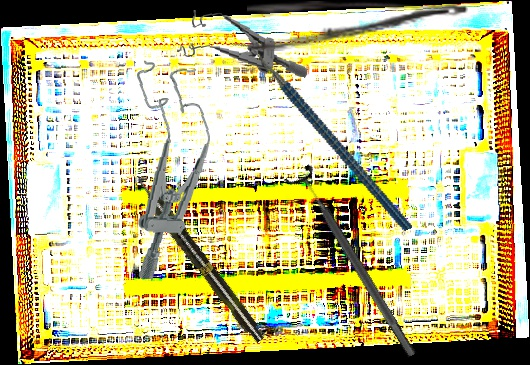Chopper: (228, 6, 413, 266)
Dressing Forceps: (247, 1, 468, 51)
Fixation Ring: (283, 162, 426, 365)
Handpiece: (130, 171, 268, 346)
Speculum: (122, 60, 216, 283), (175, 8, 313, 78)
